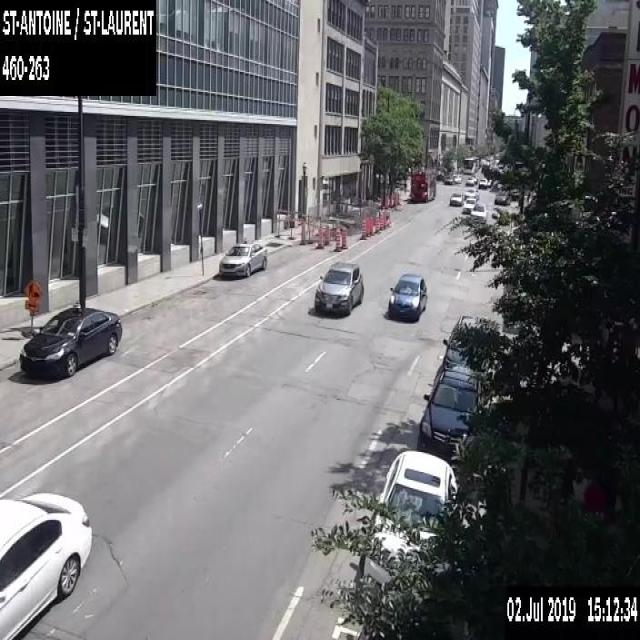bus: (410, 167, 435, 201), (463, 155, 479, 173)
construction: (22, 276, 44, 336), (274, 207, 305, 239), (316, 227, 323, 248), (334, 230, 341, 250), (341, 227, 347, 248), (323, 223, 329, 244), (306, 222, 312, 243), (360, 218, 366, 238), (300, 220, 305, 243), (374, 215, 380, 232), (378, 213, 384, 230), (365, 217, 370, 236), (382, 211, 387, 228), (384, 194, 387, 208), (389, 193, 392, 207), (393, 192, 396, 206)
vehicle: (362, 449, 457, 607), (0, 489, 93, 639), (18, 305, 122, 380), (416, 362, 482, 461), (442, 313, 497, 372), (314, 260, 363, 313), (218, 240, 267, 276), (388, 272, 426, 317), (470, 202, 486, 220), (494, 189, 511, 204), (462, 197, 477, 212), (448, 191, 462, 205), (464, 187, 478, 199), (464, 176, 474, 185), (444, 174, 452, 184), (478, 178, 486, 188), (483, 176, 490, 187), (453, 174, 461, 182), (470, 174, 477, 183)
